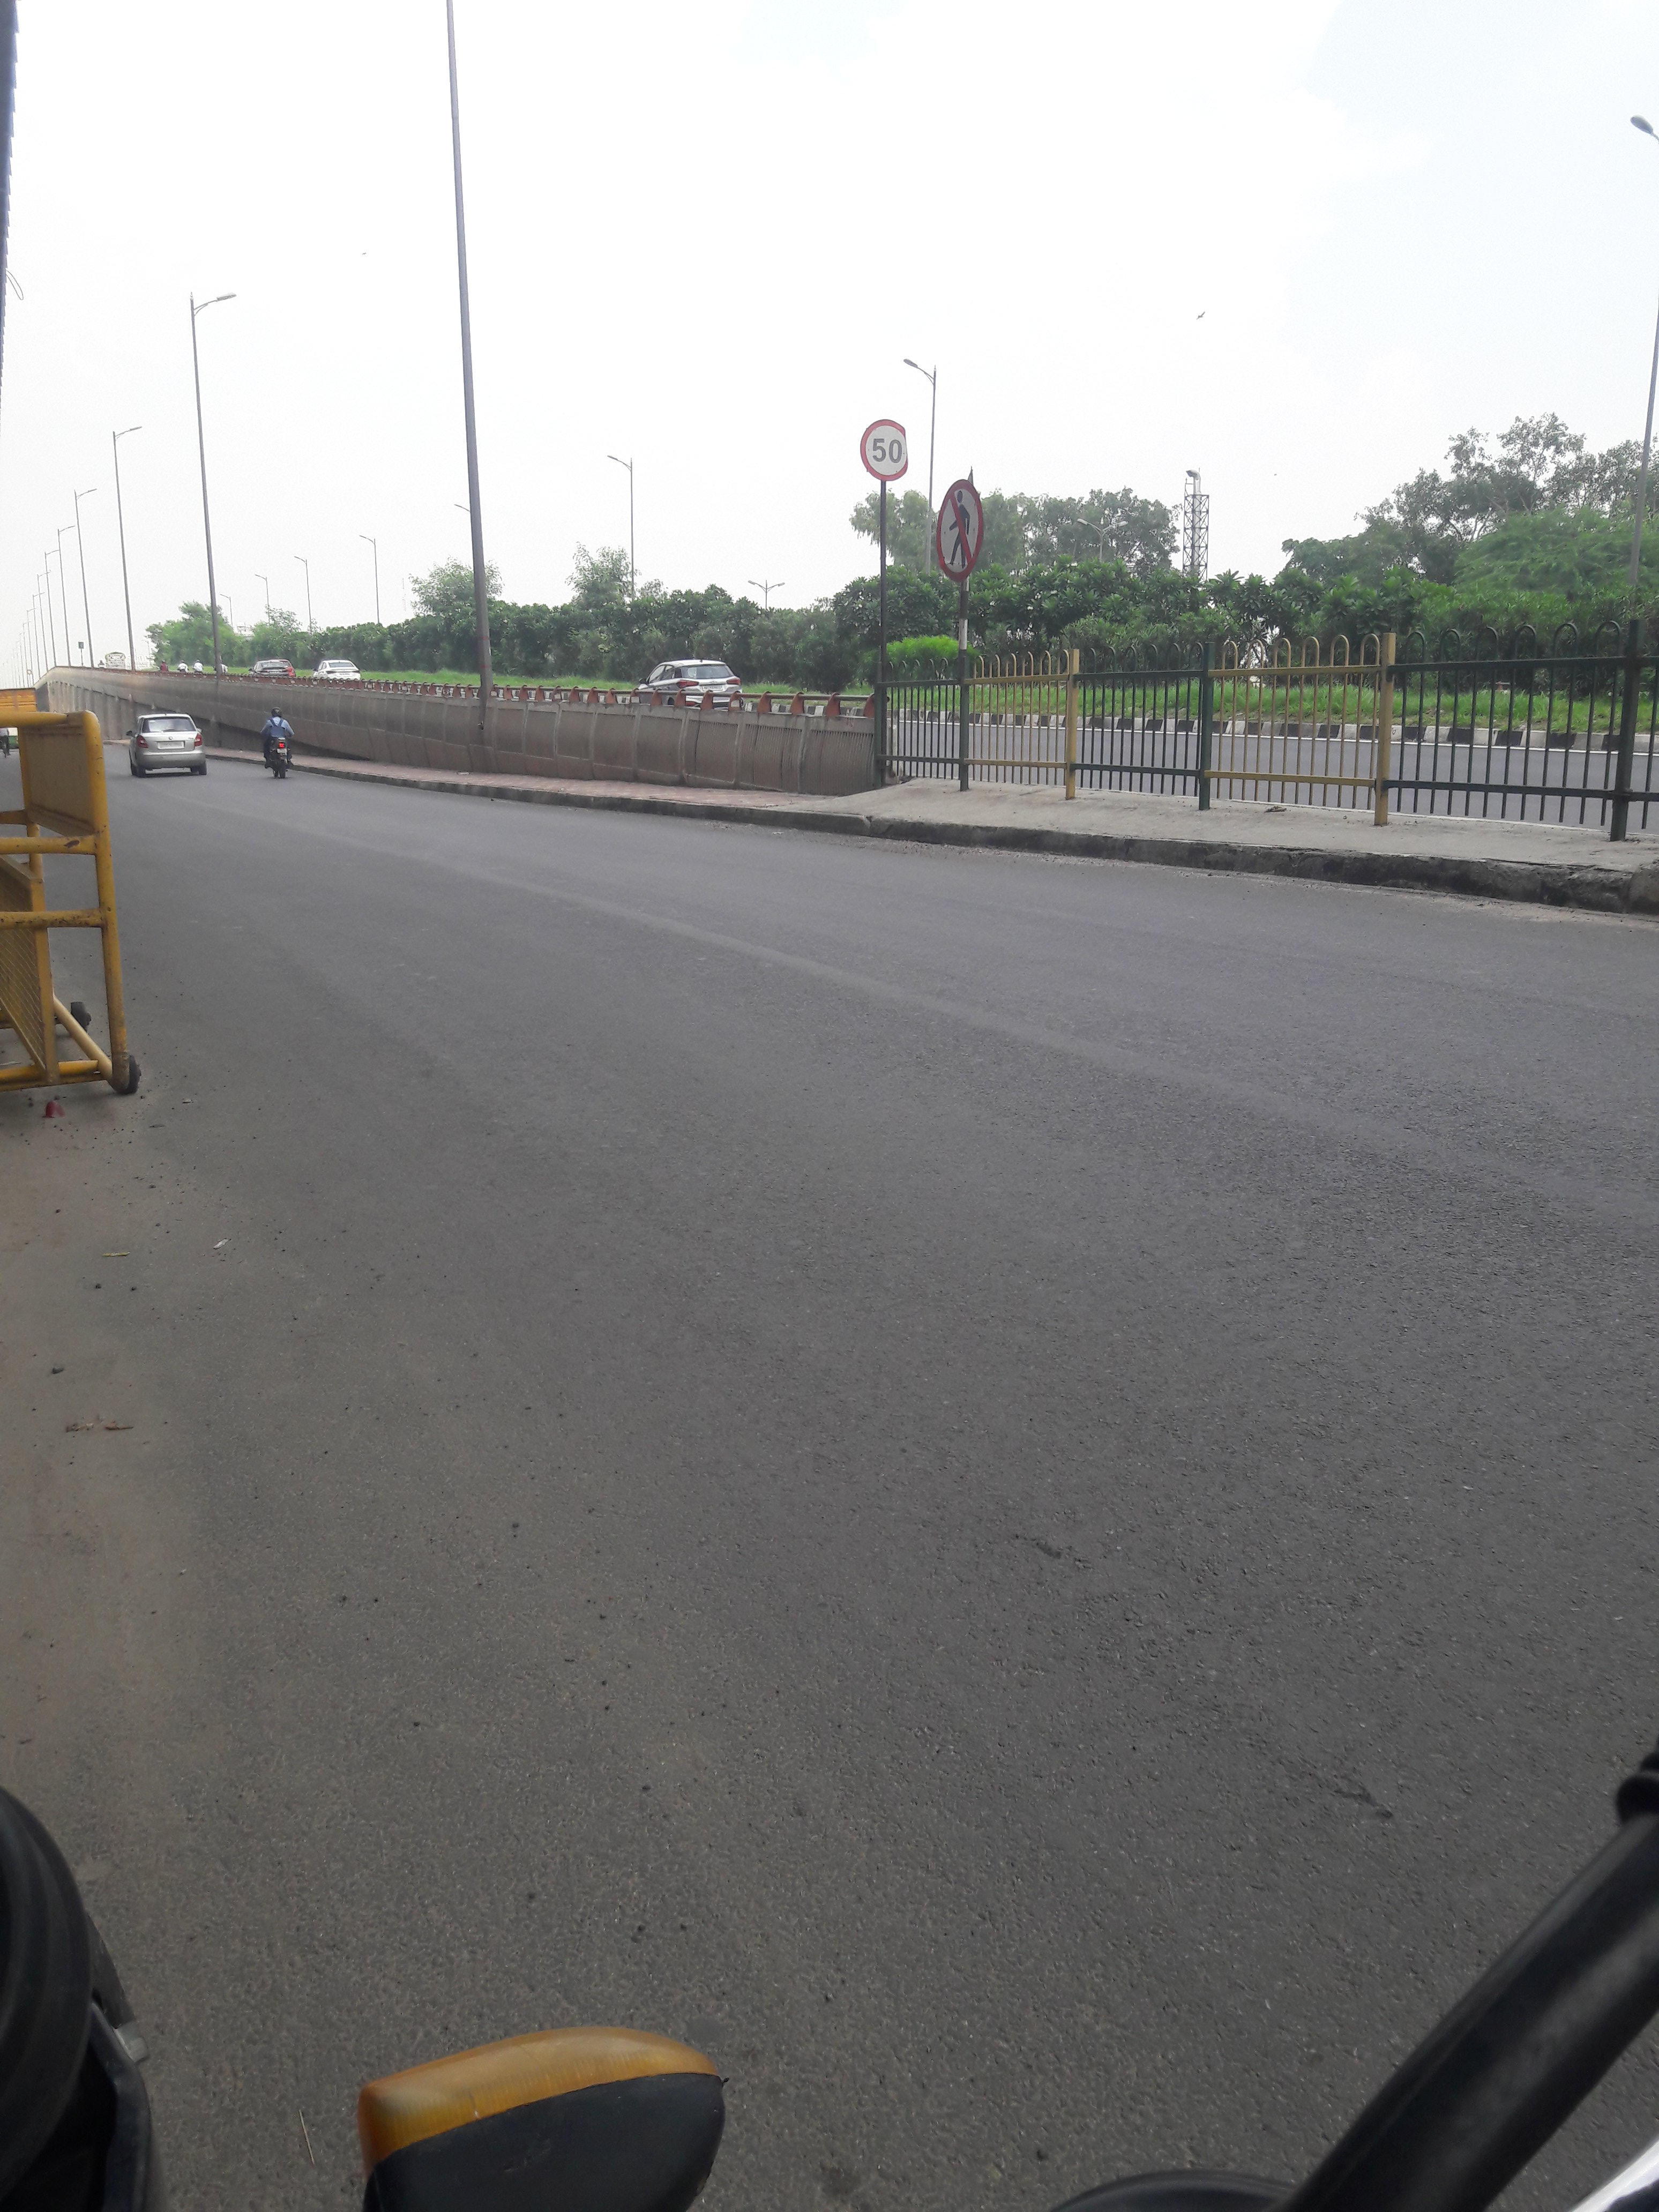traffic_sign: (938, 479, 981, 585), (861, 420, 908, 481)
